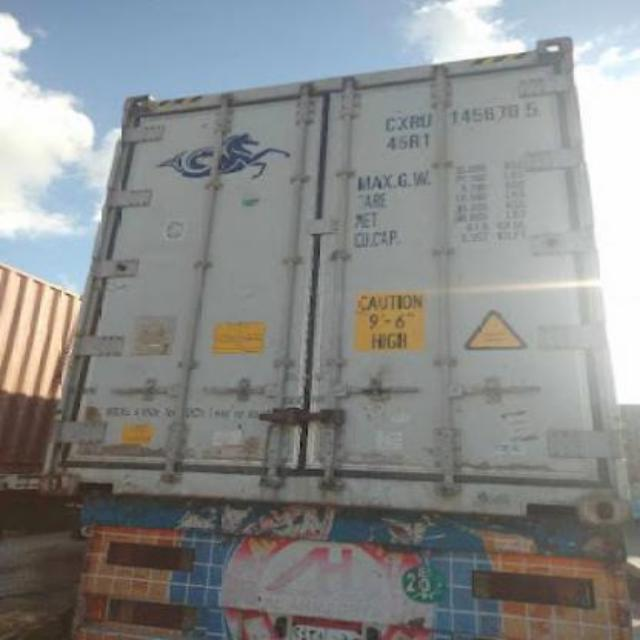0: (508, 101, 522, 125)
1: (446, 105, 459, 125)
4: (458, 104, 472, 126)
5: (522, 98, 540, 126), (470, 104, 482, 125)
6: (482, 100, 494, 124)
7: (496, 98, 506, 124)
C: (382, 110, 396, 130)
R: (408, 108, 420, 132)
U: (418, 108, 434, 128)
X: (394, 111, 408, 132)
